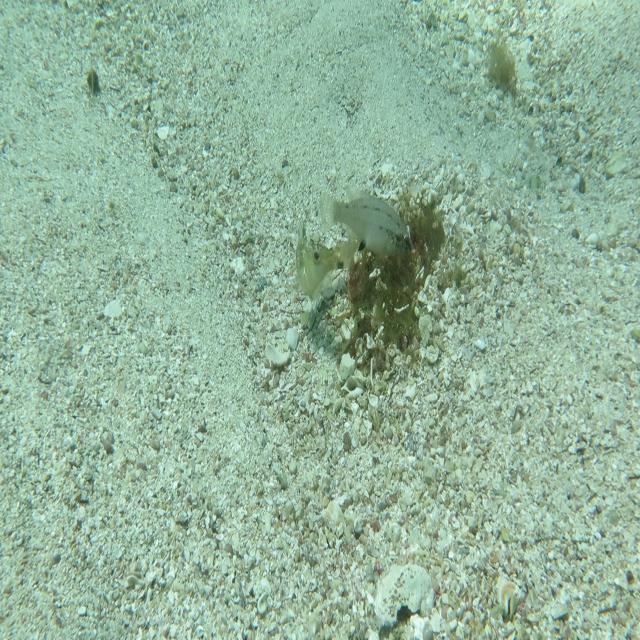BEND: (294, 218, 358, 298)
female: (312, 192, 413, 262)
nest: (310, 172, 464, 392)
